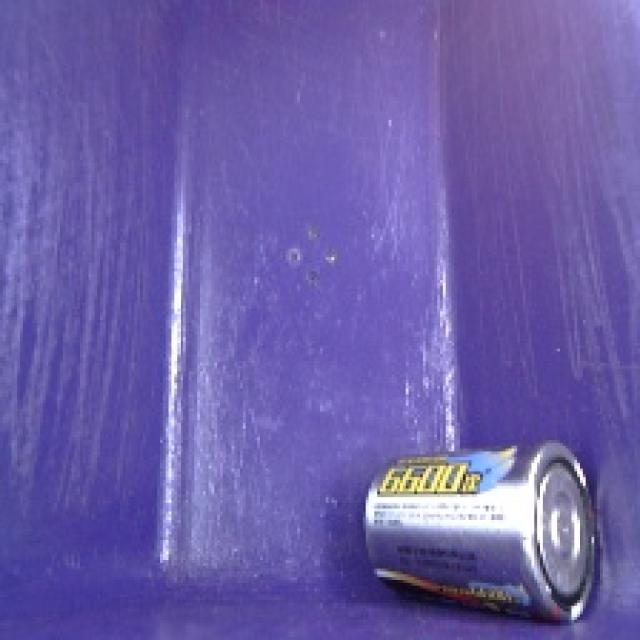battery: (352, 440, 612, 631)
